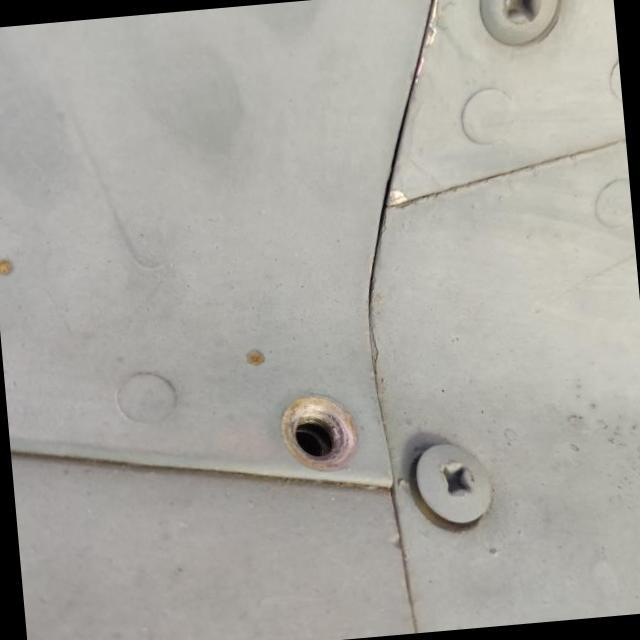Fastener Damage: (232, 358, 392, 522)
